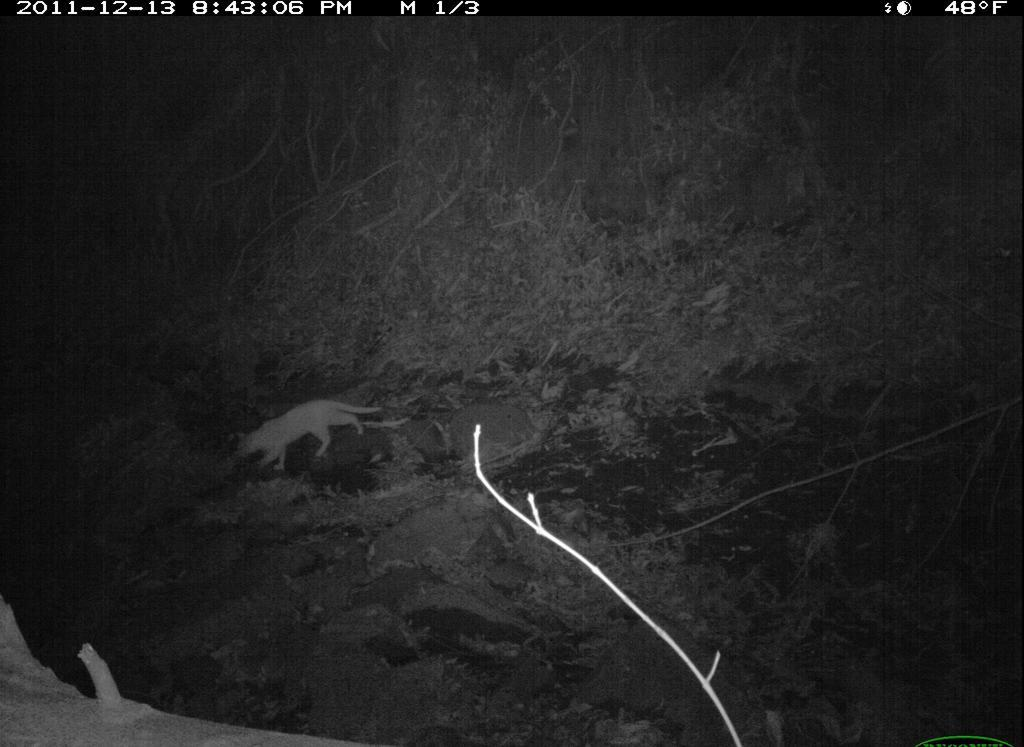cat: (222, 390, 401, 493)
